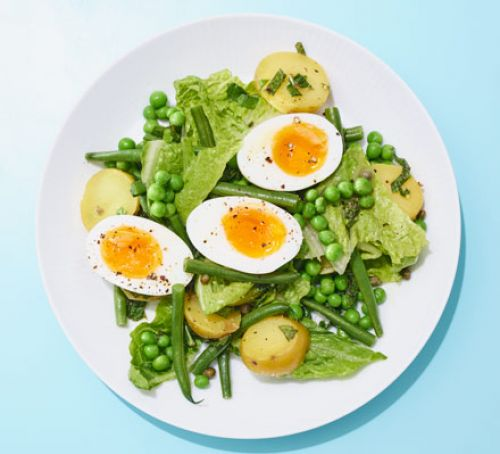boiled peas: (308, 257, 379, 341), (317, 279, 384, 344), (138, 328, 176, 377), (146, 171, 184, 219), (146, 89, 181, 140), (364, 132, 400, 164)
boiled potatoes: (255, 50, 341, 115), (242, 313, 315, 379), (78, 164, 142, 232), (180, 295, 248, 349), (370, 162, 426, 219)
chopped lettuce: (168, 64, 244, 213), (330, 199, 433, 271)
fried egg: (81, 217, 199, 300), (187, 199, 305, 277), (235, 120, 350, 192)
